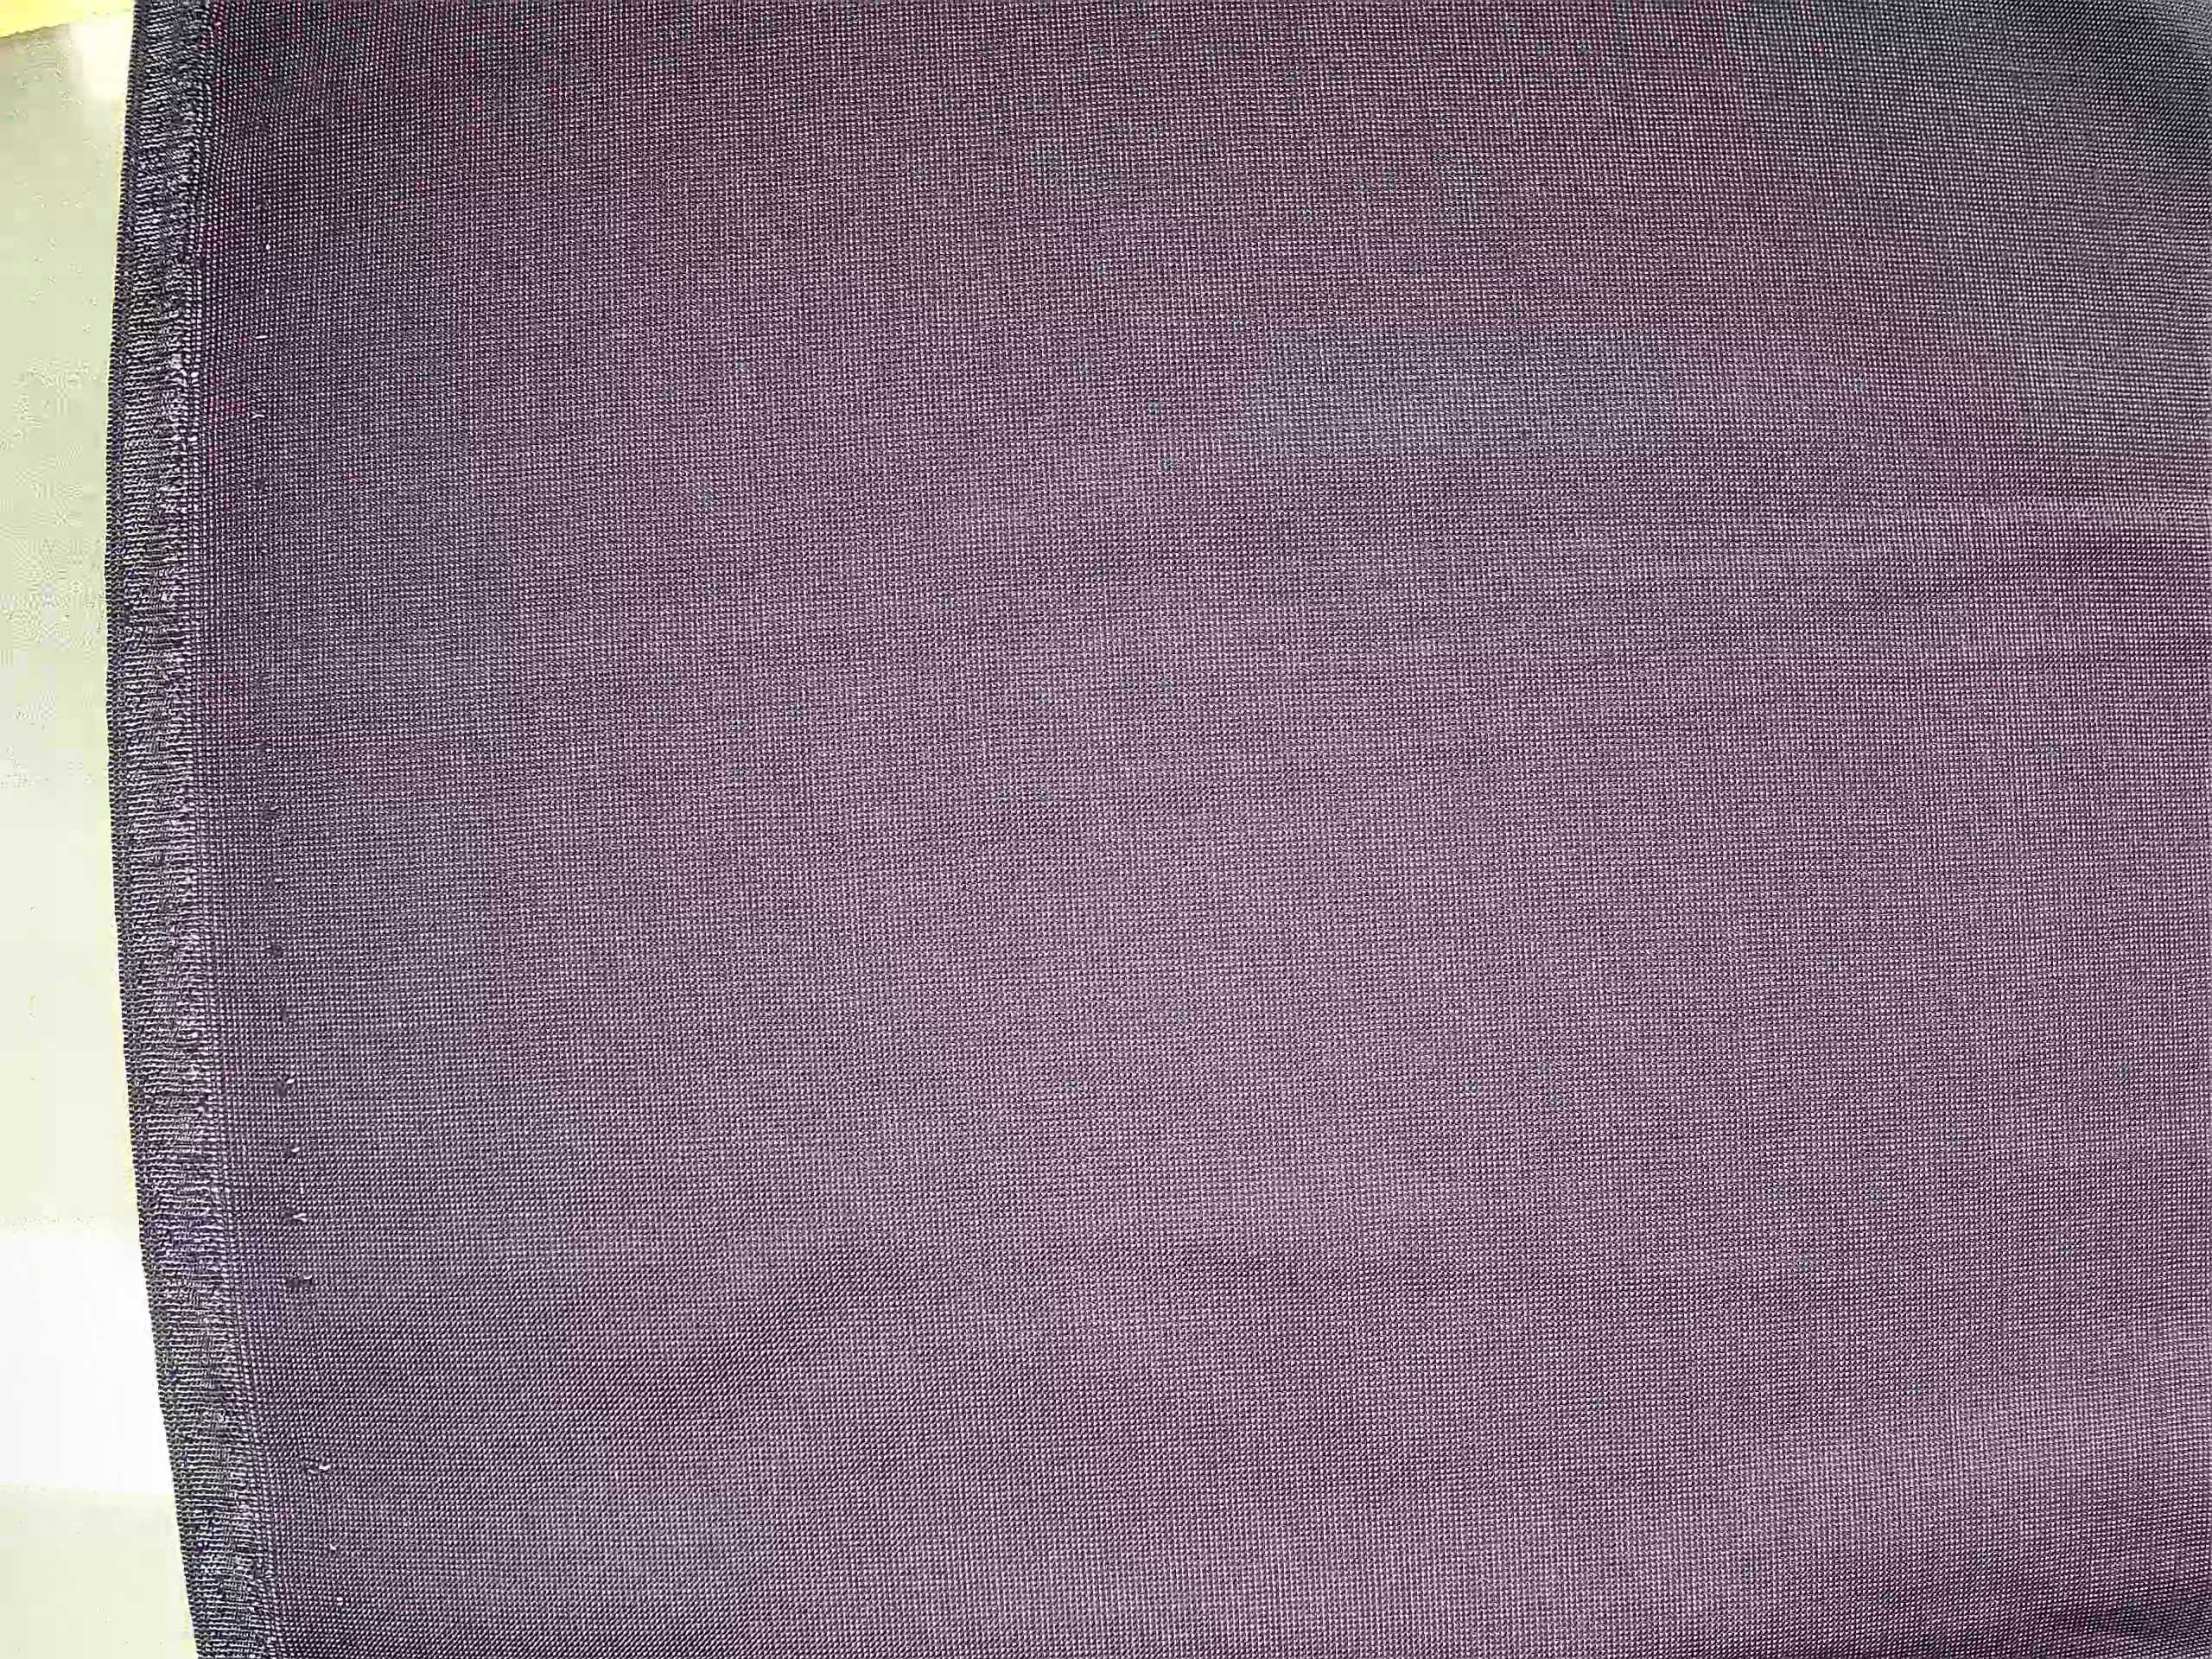puncture-hole: (240, 91, 369, 1631)
